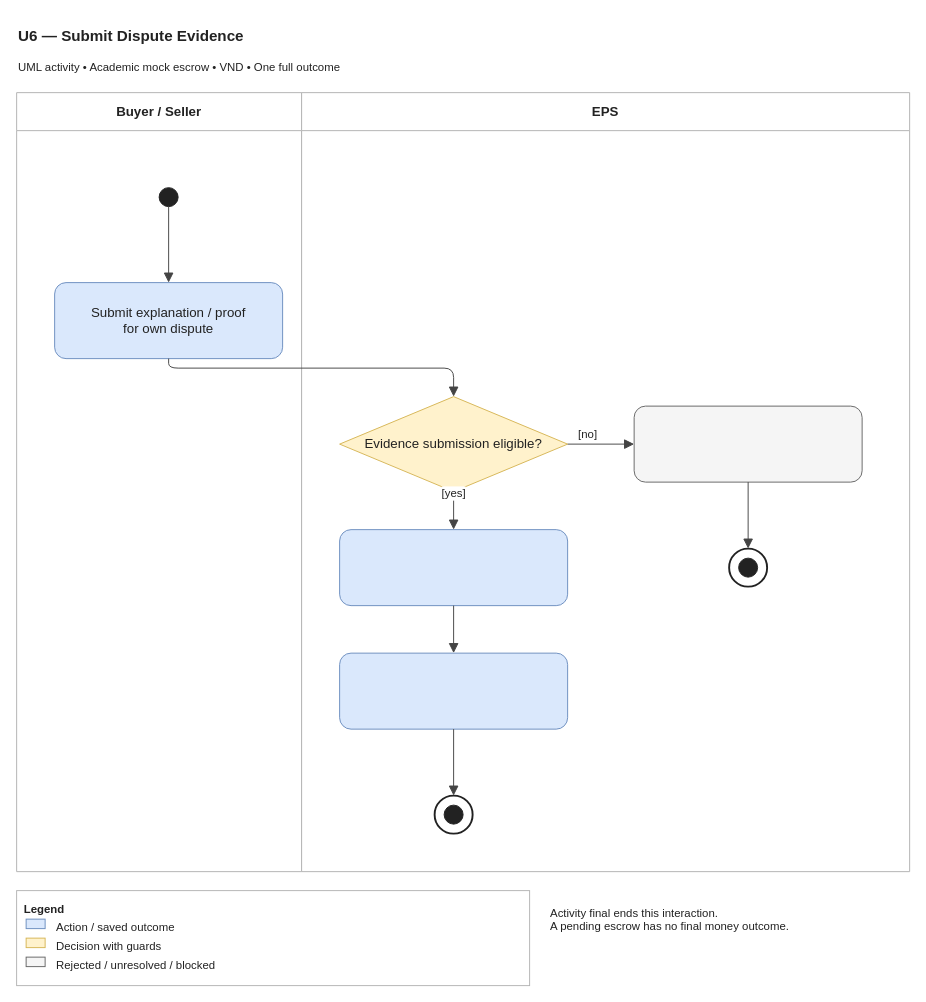
Image size: 926x1002. Some labels were removed from this diagram. The centre of each missing label's shape, as x and y in pixels:
Append evidence once; record author and time: [453,567]
Audit receipt; share with parties/Admin: [453,690]
Reject invalid / late evidence; no partial receipt: [747,443]
